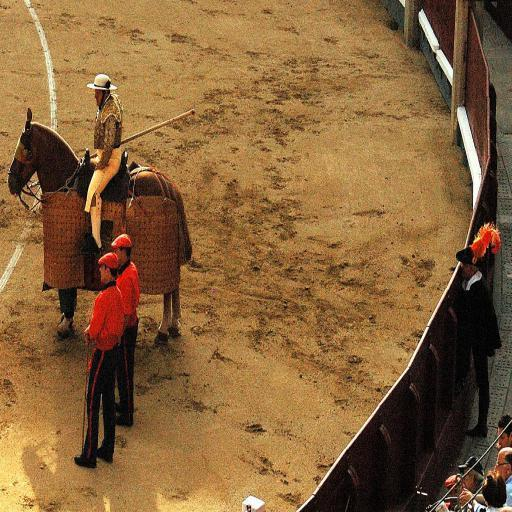horse: (4, 105, 194, 346)
